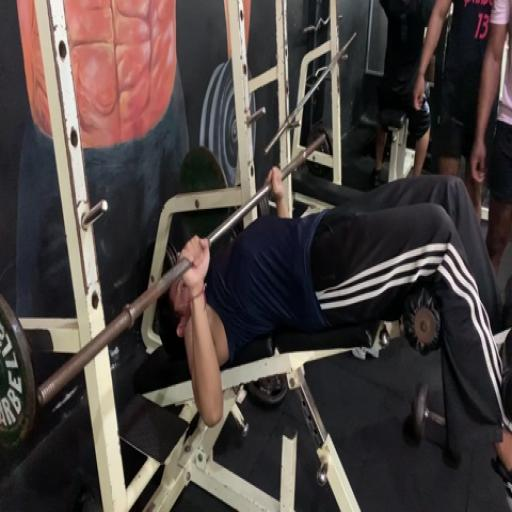exercise: (163, 172, 511, 511)
